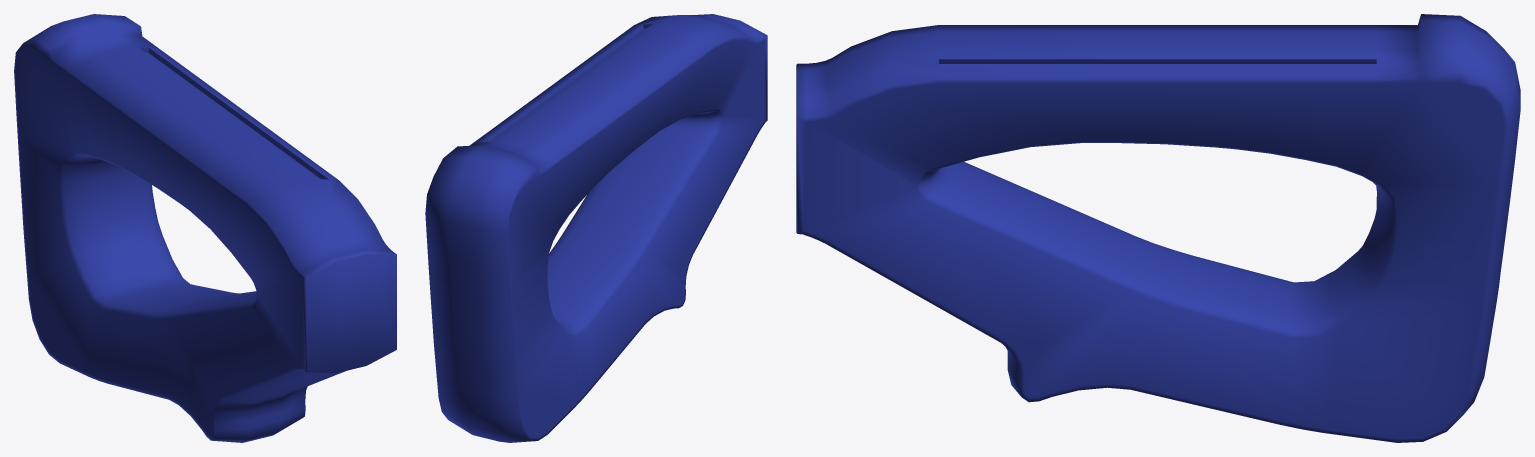
File: part_stock_02.fbx
3 renders of one model, left to right at view 1: azimuth 30°, elevation 25°; view 2: azimuth 150°, elevation 25°; view 3: azimuth 270°, elevation 25°, orthographic. The views are drawn at different scales.
Visible parts, largest first — view 1: part_stock_02; view 2: part_stock_02; view 3: part_stock_02.
Part boxes in pixels (box(x1,y1,x2,y2)): part_stock_02: box(14, 14, 396, 442); part_stock_02: box(425, 14, 767, 442); part_stock_02: box(796, 14, 1520, 442).
Bounding box in the file's own units: 6 × 20.49 × 33.91.
